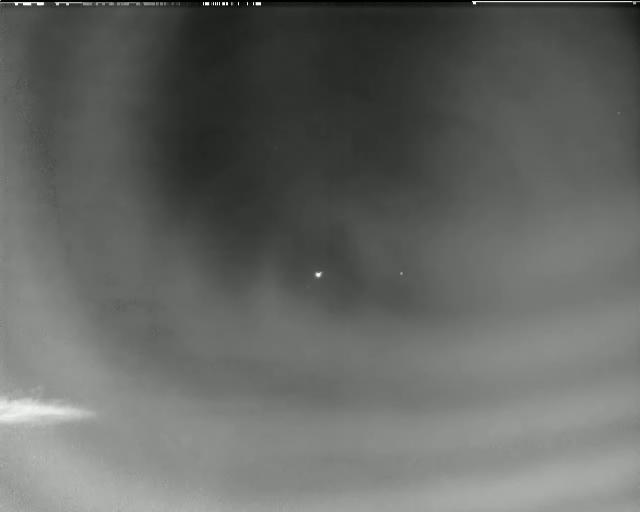uav: (314, 271, 324, 280)
